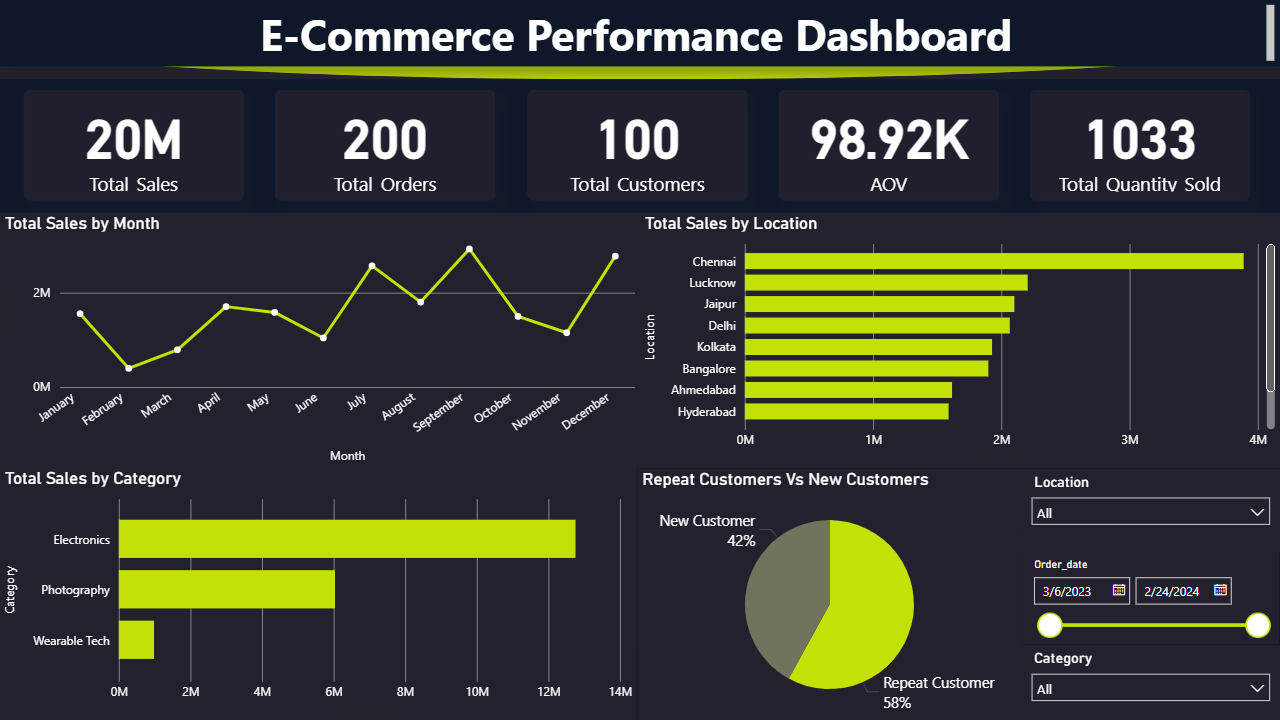

This screenshot's page, from the dashboard's own definition file:
{"tool":"powerbi","page":{"name":"Executive_Summary","canvas":[1280,720],"ordinal":0},"visuals":[{"type":"shape","box":[0,0,1279.7,79.4],"z":0},{"type":"textbox","box":[0,0,1279.7,66.4],"z":1000},{"type":"card","fields":{"Values":["Order_Details.Total_Sales"]},"box":[23.9,90.3,220,110],"z":2000},{"type":"card","fields":{"Values":["Orders.Total_Orders"]},"box":[275.6,90.3,220,110],"z":3000},{"type":"card","fields":{"Values":["Customers.Total_Customers"]},"box":[527.2,90.3,220,110],"z":4000},{"type":"card","fields":{"Values":["Customers.AOV"]},"box":[778.8,90.3,220,110],"z":5000},{"type":"card","fields":{"Values":["Order_Details.Total_Quantity_Sold"]},"box":[1030.4,90.3,220,110],"z":6000},{"type":"lineChart","title":"Total Sales by Month","fields":{"Category":["Orders.order_date.Variation.Date Hierarchy.Month"],"Y":["Order_Details.Total_Sales"]},"box":[0,212.9,640,255.7],"z":7000},{"type":"clusteredBarChart","title":"Total Sales by Location","fields":{"Y":["Order_Details.Total_Sales"],"Category":["Customers.location"]},"box":[640,212.9,640,255.7],"z":8000},{"type":"clusteredBarChart","title":"Total Sales by Category","fields":{"Y":["Order_Details.Total_Sales"],"Category":["Products.category"]},"box":[0,468.1,637.2,252.7],"z":9000},{"type":"pieChart","title":"Repeat Customers Vs New Customers","fields":{"Category":["Customers.Customer_Type"],"Y":["Customers.Total_Customers"]},"box":[637.1,468.6,384.3,252.9],"z":10000},{"type":"slicer","fields":{"Values":["Customers.location"]},"box":[1021.1,468.6,258.9,83.9],"z":11000},{"type":"slicer","fields":{"Values":["Products.category"]},"box":[1021.1,644.8,258.9,75.5],"z":12000},{"type":"slicer","fields":{"Values":["Orders.order_date"]},"box":[1021.1,552.5,257.7,92.3],"z":13000}]}

Visuals, with their boxes in screenshot pixels (x1, y1, x2, y2), scaled from the page's 1280x720 canvas onto the 1280x720 screenshot:
shape: box=[0, 0, 1279, 79]
textbox: box=[0, 0, 1279, 66]
card - Order_Details.Total_Sales: box=[24, 90, 244, 200]
card - Orders.Total_Orders: box=[276, 90, 496, 200]
card - Customers.Total_Customers: box=[527, 90, 747, 200]
card - Customers.AOV: box=[779, 90, 999, 200]
card - Order_Details.Total_Quantity_Sold: box=[1030, 90, 1250, 200]
"Total Sales by Month" lineChart: box=[0, 213, 640, 469]
"Total Sales by Location" clusteredBarChart: box=[640, 213, 1279, 469]
"Total Sales by Category" clusteredBarChart: box=[0, 468, 637, 719]
"Repeat Customers Vs New Customers" pieChart: box=[637, 469, 1021, 719]
slicer - Customers.location: box=[1021, 469, 1279, 552]
slicer - Products.category: box=[1021, 645, 1279, 719]
slicer - Orders.order_date: box=[1021, 552, 1279, 645]
